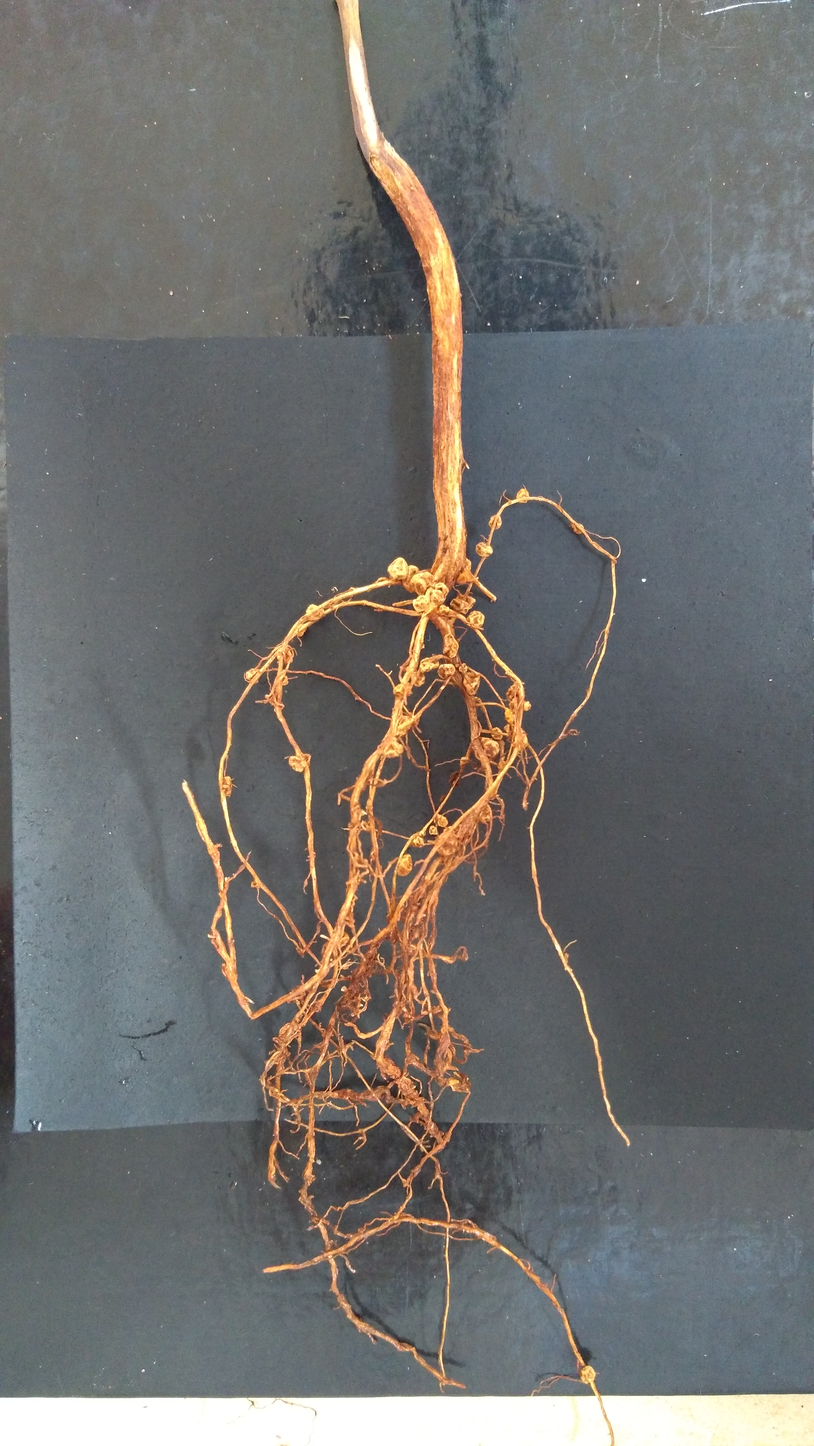nodule: (410, 569, 436, 597), (385, 556, 409, 582), (400, 563, 420, 594), (381, 738, 405, 760), (437, 830, 458, 855), (441, 632, 460, 659), (462, 671, 482, 696), (577, 1363, 598, 1386), (394, 853, 413, 878), (465, 609, 486, 631), (278, 1022, 298, 1045), (304, 603, 326, 622), (475, 801, 493, 824), (474, 540, 495, 559), (333, 928, 350, 951), (482, 739, 501, 759), (287, 755, 306, 775), (419, 656, 440, 674), (455, 593, 477, 610), (412, 594, 430, 614), (449, 597, 469, 615), (436, 662, 456, 680), (274, 646, 294, 664), (397, 714, 414, 735), (510, 732, 530, 749), (514, 488, 532, 506), (409, 669, 426, 688), (504, 681, 520, 701), (243, 667, 261, 684), (221, 774, 233, 799), (487, 514, 504, 531), (434, 581, 450, 598), (429, 587, 444, 605), (570, 521, 586, 536), (392, 683, 407, 698), (489, 726, 504, 741), (409, 835, 425, 849), (503, 708, 516, 725), (435, 814, 449, 828), (455, 571, 467, 586), (296, 627, 308, 638), (280, 675, 291, 687), (522, 700, 533, 712), (428, 824, 439, 836), (496, 760, 508, 770), (458, 662, 468, 673), (503, 723, 512, 733)
